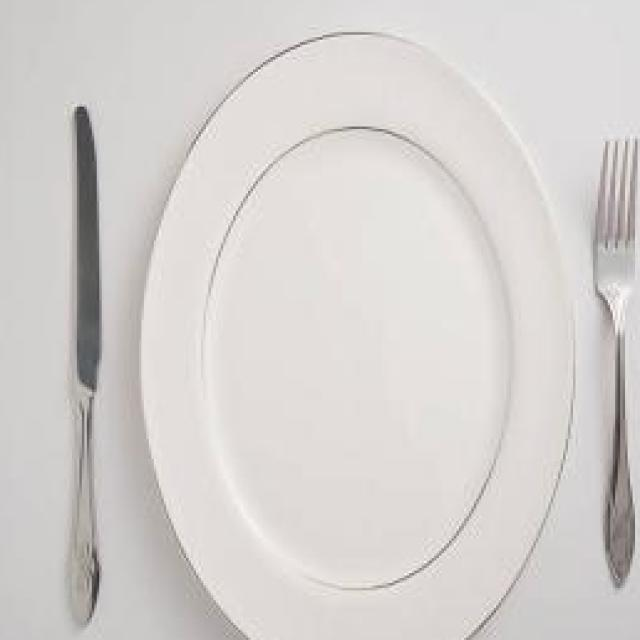knife: (61, 99, 114, 635)
